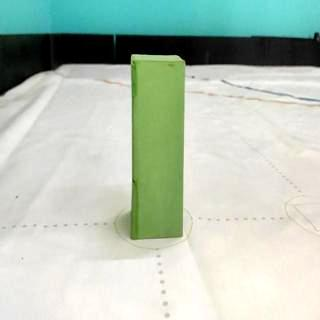greenbox: (129, 52, 187, 240)
